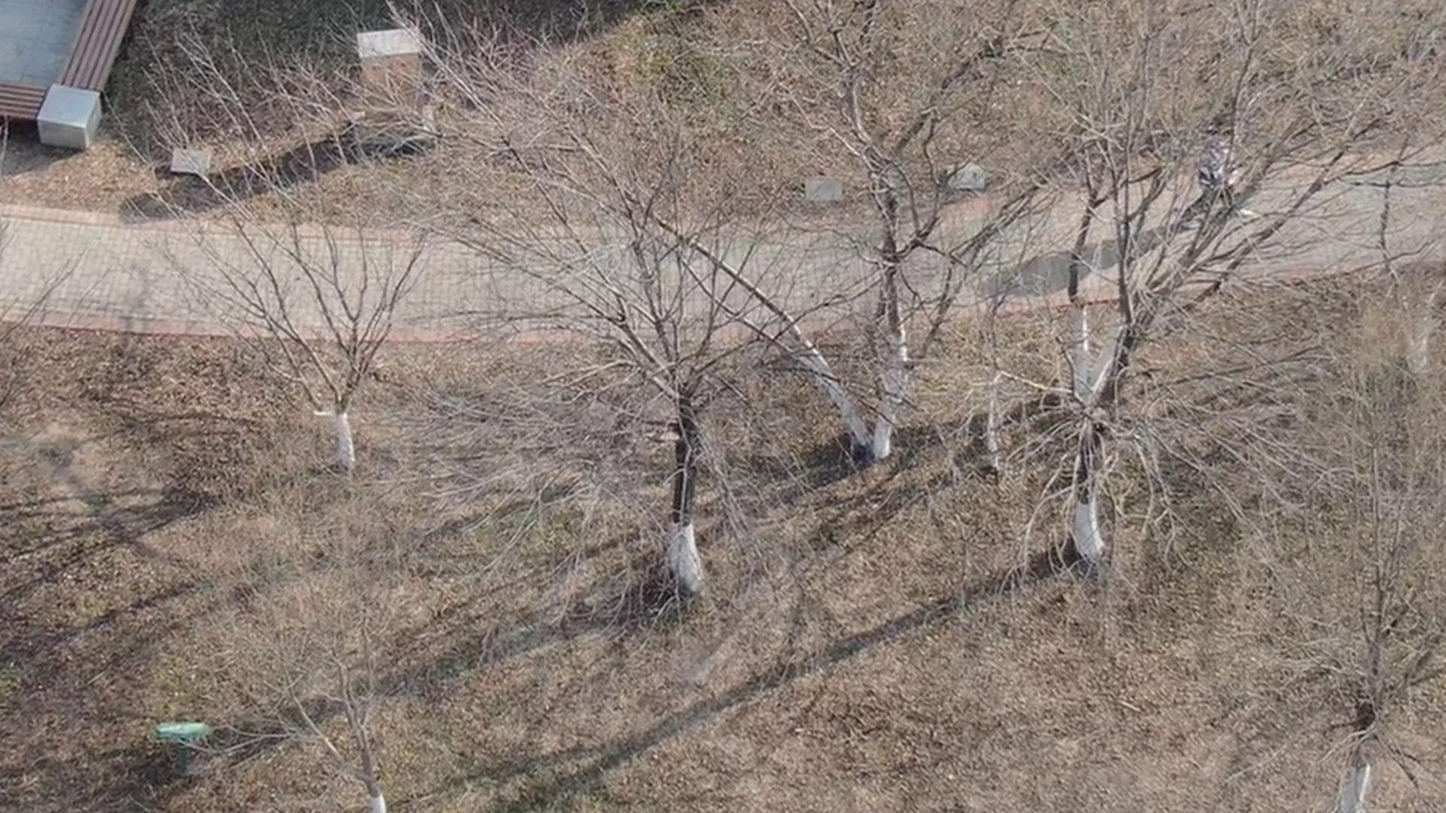human: (1167, 141, 1236, 257)
